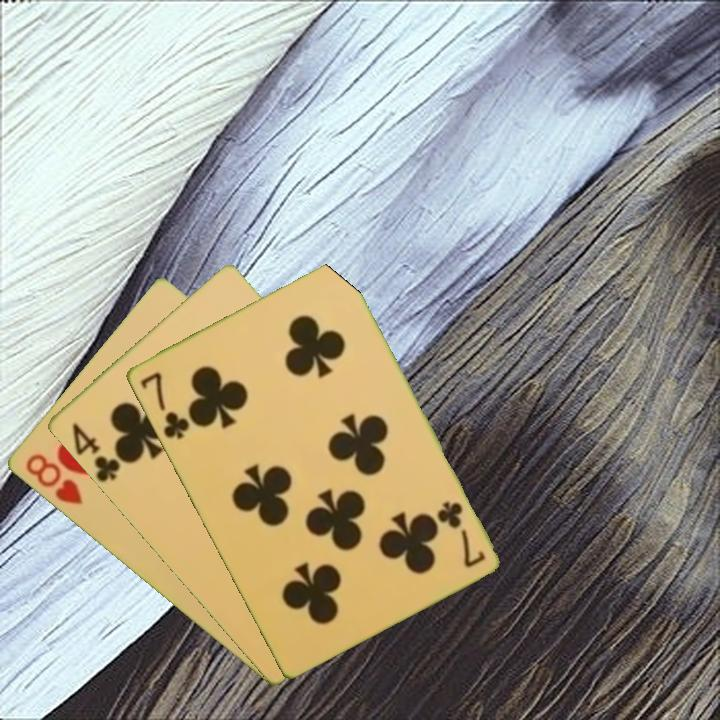4c: (67, 419, 123, 485)
7c: (136, 368, 192, 442), (433, 498, 488, 571)
8h: (21, 450, 86, 508)
